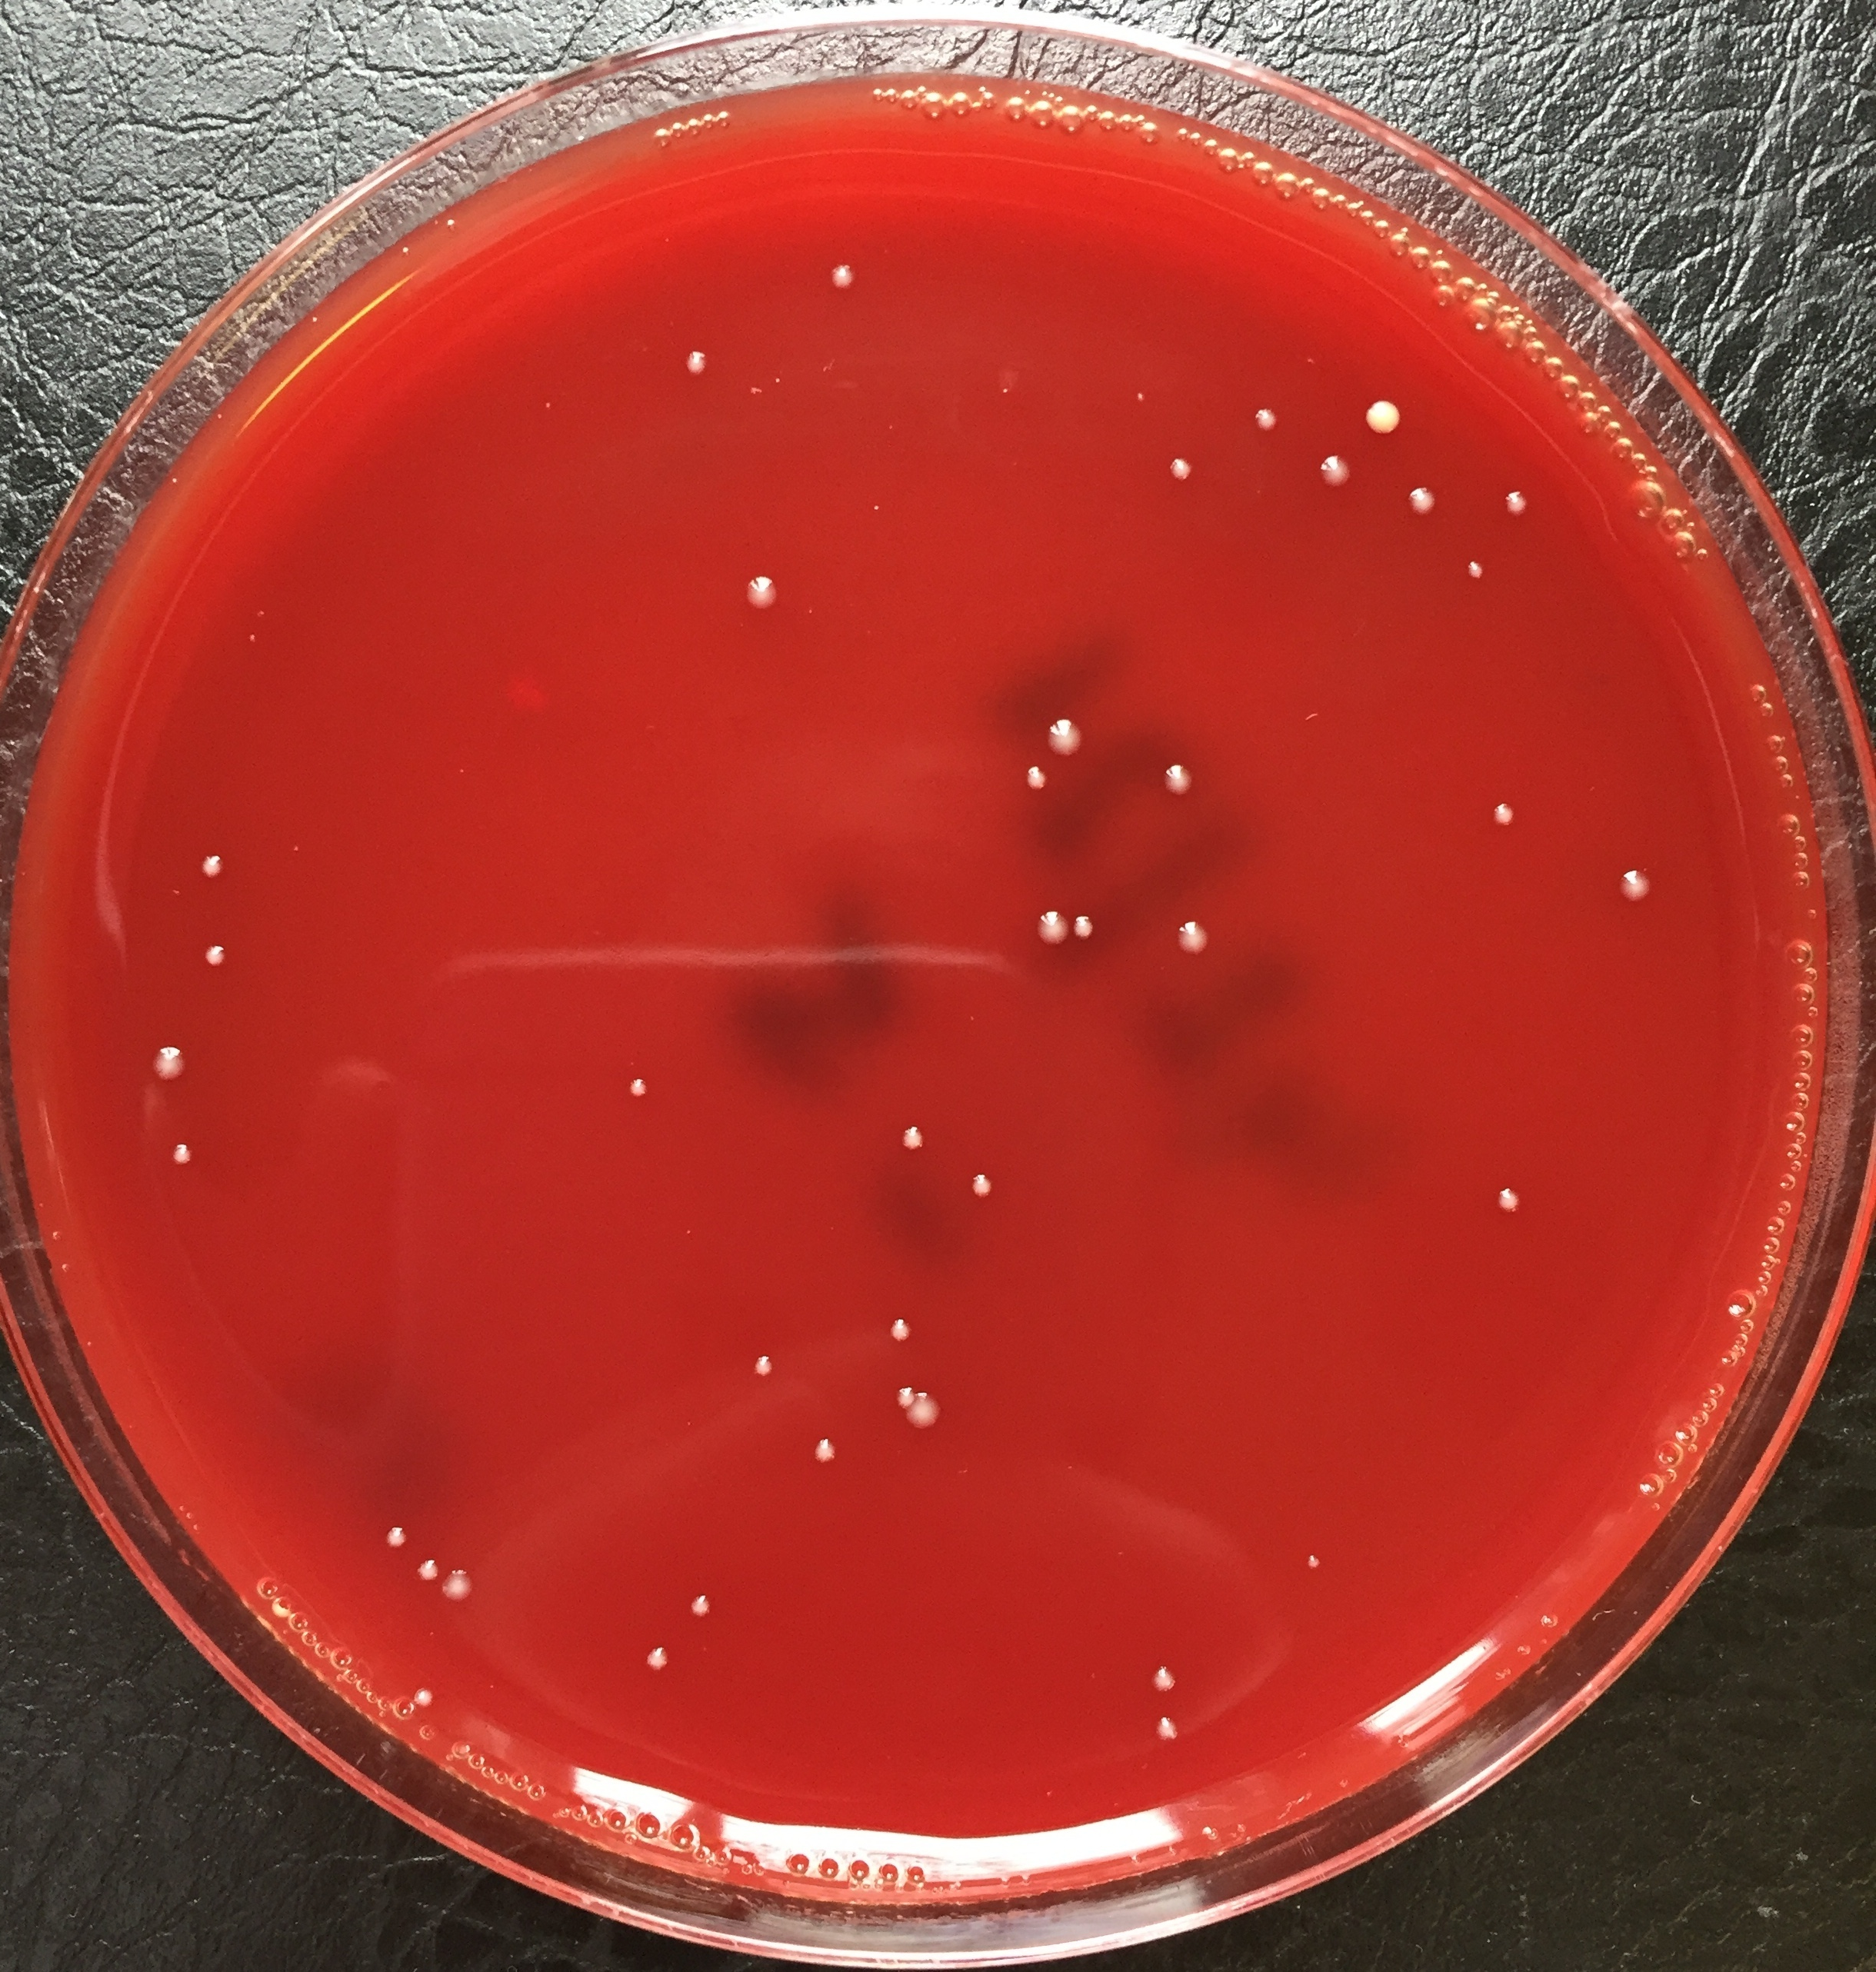sp06: (1596, 847, 1672, 909), (726, 563, 787, 630), (1141, 1699, 1200, 1762), (879, 1116, 941, 1174), (137, 1032, 196, 1088), (1356, 387, 1413, 444), (958, 1157, 1002, 1222), (668, 338, 726, 387), (153, 1137, 213, 1180), (1242, 393, 1289, 445), (1150, 754, 1198, 806), (1164, 916, 1217, 963), (1027, 901, 1069, 960), (798, 1428, 846, 1479), (611, 1071, 668, 1111), (1038, 713, 1094, 754), (1309, 449, 1360, 493), (1141, 1657, 1185, 1706), (1481, 1169, 1533, 1211), (1011, 754, 1055, 801), (188, 847, 238, 889), (1156, 445, 1196, 497), (911, 1393, 949, 1442), (1474, 796, 1522, 835), (743, 1347, 784, 1389), (439, 1565, 477, 1609), (1399, 481, 1437, 525), (1451, 553, 1496, 592), (194, 944, 247, 974), (405, 1551, 444, 1592), (819, 259, 860, 296), (380, 1514, 414, 1556), (407, 1681, 444, 1718), (678, 1585, 717, 1620), (1298, 1553, 1337, 1585), (886, 1310, 916, 1350), (1501, 482, 1529, 523), (639, 1639, 669, 1676), (893, 1370, 920, 1410), (1069, 912, 1108, 937)
